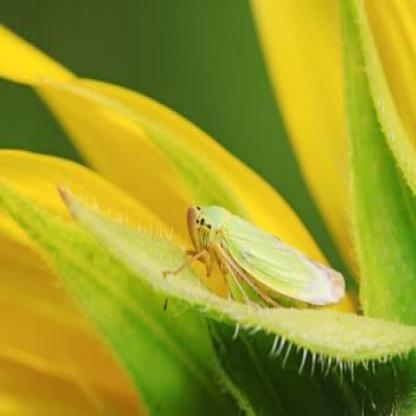Green-Leafhopper: (162, 201, 350, 319)
